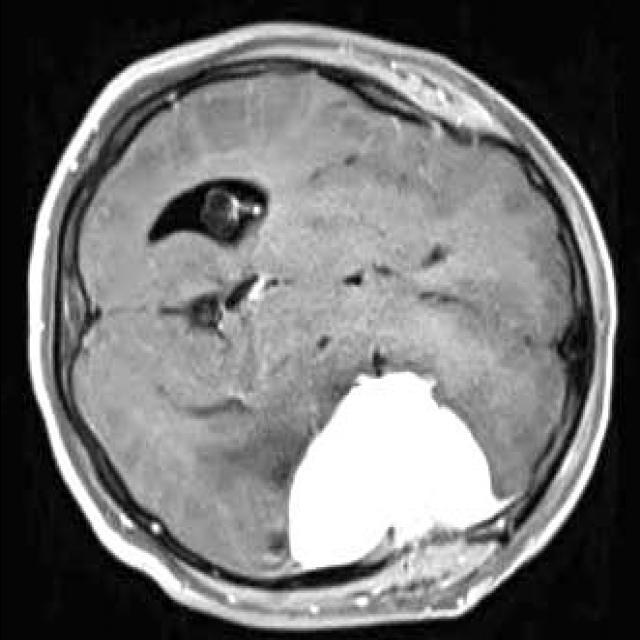tumor: (284, 369, 499, 569)
